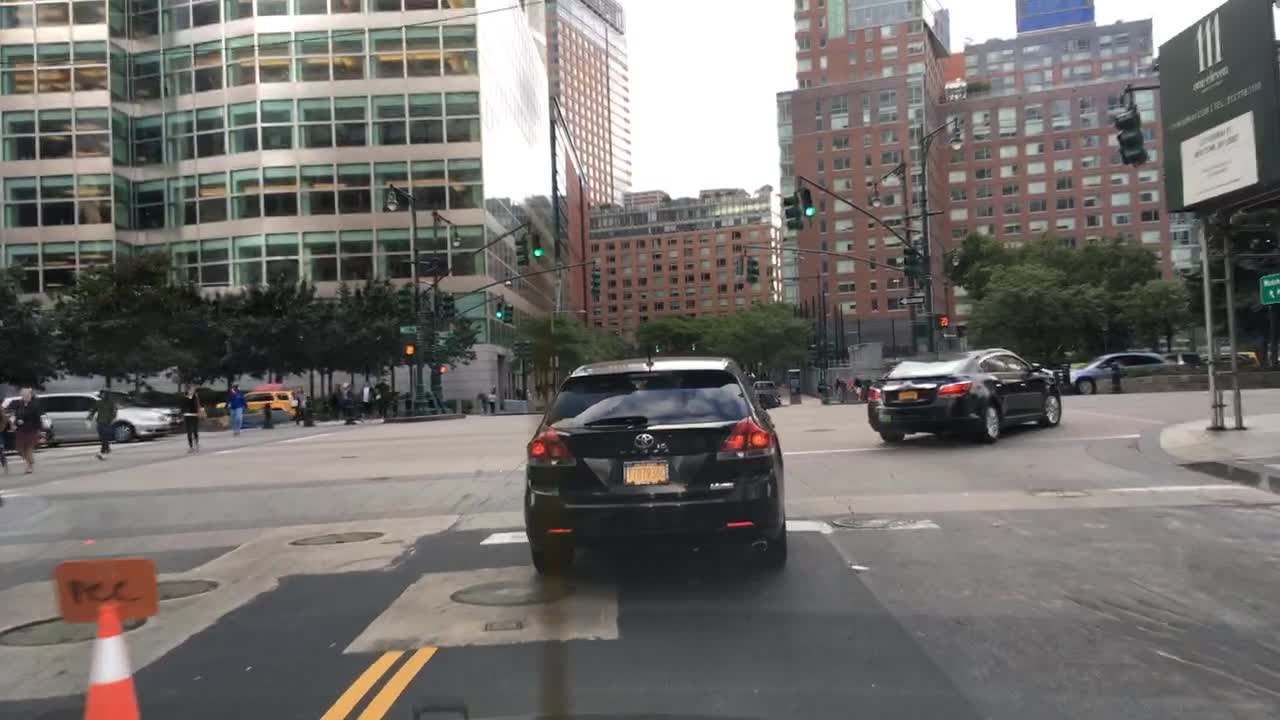car: (523, 354, 788, 577), (864, 347, 1059, 444), (0, 390, 185, 444), (1066, 347, 1174, 400), (212, 388, 300, 417), (1210, 346, 1259, 374), (125, 390, 189, 408), (751, 378, 779, 412), (1029, 361, 1066, 385), (1162, 351, 1205, 371)
person: (8, 385, 52, 476), (81, 388, 118, 461), (174, 380, 206, 449), (222, 380, 246, 440), (0, 388, 10, 509), (371, 373, 391, 417), (327, 381, 346, 418), (357, 376, 373, 415), (832, 373, 847, 401), (849, 374, 862, 401), (815, 374, 827, 403), (862, 374, 874, 401), (474, 390, 489, 410), (486, 385, 498, 408)
traffic light: (1110, 98, 1146, 165), (779, 194, 803, 231), (796, 185, 816, 219), (901, 245, 919, 277), (744, 255, 761, 288), (395, 285, 410, 314), (511, 233, 526, 261), (530, 229, 543, 260), (587, 261, 600, 292), (442, 293, 454, 320), (931, 312, 950, 329), (732, 251, 744, 275), (491, 300, 503, 322), (503, 300, 514, 324), (403, 341, 415, 356), (435, 361, 447, 376)
traffic sign: (1260, 275, 1279, 305), (896, 293, 923, 305), (398, 322, 417, 334)
